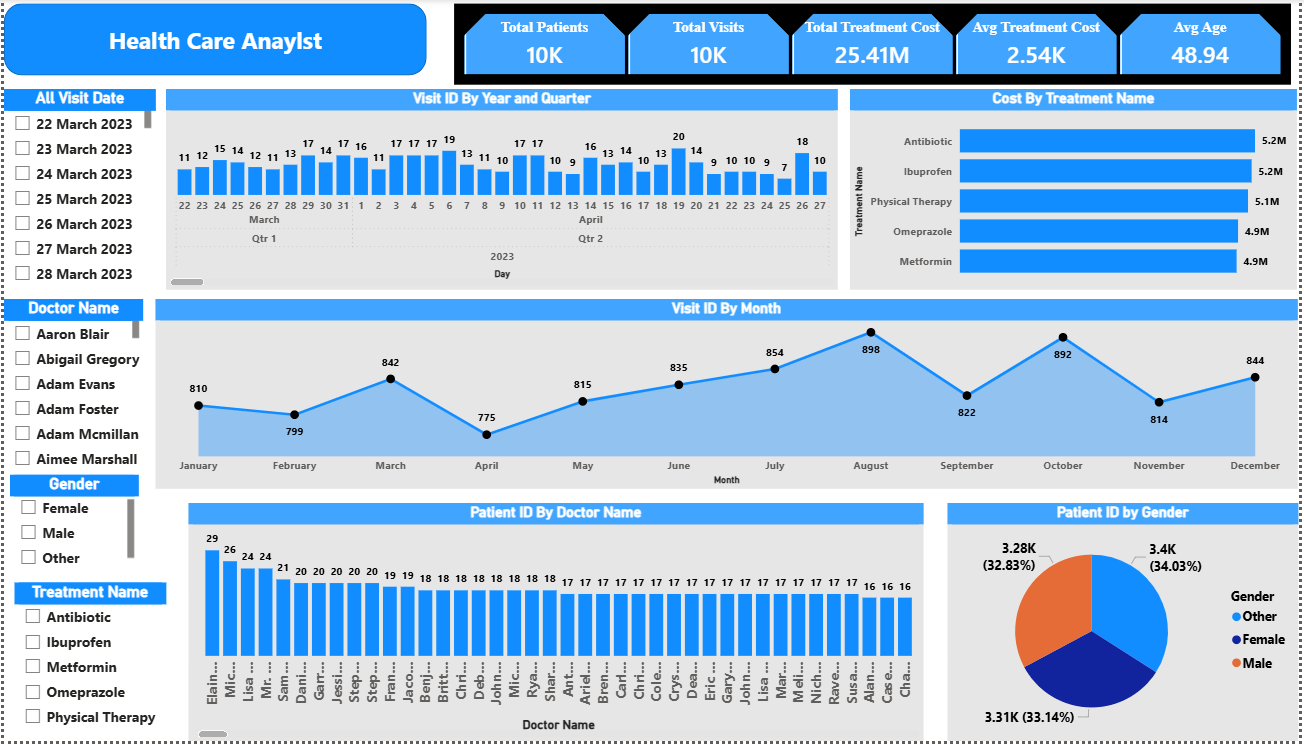

This screenshot's page, from the dashboard's own definition file:
{"tool":"powerbi","page":{"name":"Dashboard","canvas":[1500,860],"ordinal":0},"visuals":[{"type":"cardVisual","fields":{"Data":["Doctor.Total Patients","Doctor.Total Visits","Doctor.Total Treatment Cost","Doctor.Avg Treatment Cost","Doctor.Avg Age"]},"box":[516.4,0,983.1,104.7],"z":0},{"type":"shape","box":[0,5.3,489.8,83.4],"z":1000},{"type":"barChart","title":"Cost By Treatment Name","fields":{"Y":["Sum(Treatments.Cost)"],"Category":["Treatments.Treatment Name"]},"box":[981.3,104.7,518.1,232.5],"z":2000},{"type":"pieChart","title":"Patient ID by Gender","fields":{"Category":["Patient.Gender"],"Y":["CountNonNull(Patient.Patient ID)"]},"box":[1093.1,583.8,406.4,276.8],"z":3000},{"type":"columnChart","title":"Patient ID By Doctor Name","fields":{"Category":["Doctor.Doctor Name"],"Y":["CountNonNull(Patient.Patient ID)"]},"box":[214.7,583.8,851.7,276.8],"z":4000},{"type":"slicer","title":"Gender","fields":{"Values":["Patient.Gender"]},"box":[7.1,551.9,149.1,110],"z":5000},{"type":"slicer","title":"Treatment Name","fields":{"Values":["Treatments.Treatment Name"]},"box":[12.4,676.1,175.7,184.5],"z":6000},{"type":"slicer","title":"All Visit Date","fields":{"Values":["Visit.Visit Date"]},"box":[0,104.7,175.7,232.5],"z":7000},{"type":"slicer","title":"Doctor Name","fields":{"Values":["Doctor.Doctor Name"]},"box":[0,347.8,161.5,200.5],"z":8000},{"type":"columnChart","title":"Visit ID By Year and Quarter","fields":{"Y":["CountNonNull(Visit.Visit ID)"],"Category":["Visit.Visit Date.Variation.Date Hierarchy.Year","Visit.Visit Date.Variation.Date Hierarchy.Quarter","Visit.Visit Date.Variation.Date Hierarchy.Month","Visit.Visit Date.Variation.Date Hierarchy.Day"]},"box":[188.1,104.7,779,232.5],"z":9000},{"type":"areaChart","title":"Visit ID By Month","fields":{"Category":["Visit.Visit Date.Variation.Date Hierarchy.Month"],"Y":["CountNonNull(Visit.Visit ID)"]},"box":[175.7,347.8,1323.7,220],"z":10000}]}

Visuals, with their boxes in screenshot pixels (x1, y1, x2, y2), scaled from the page's 1500x860 canvas onto the 1304x744 screenshot:
cardVisual - Doctor.Total Patients x Doctor.Total Visits: (449, 0, 1303, 91)
shape: (0, 5, 426, 77)
"Cost By Treatment Name" barChart: (853, 91, 1303, 292)
"Patient ID by Gender" pieChart: (950, 505, 1303, 743)
"Patient ID By Doctor Name" columnChart: (187, 505, 927, 743)
"Gender" slicer: (6, 477, 136, 573)
"Treatment Name" slicer: (11, 585, 164, 743)
"All Visit Date" slicer: (0, 91, 153, 292)
"Doctor Name" slicer: (0, 301, 140, 474)
"Visit ID By Year and Quarter" columnChart: (164, 91, 841, 292)
"Visit ID By Month" areaChart: (153, 301, 1303, 491)
